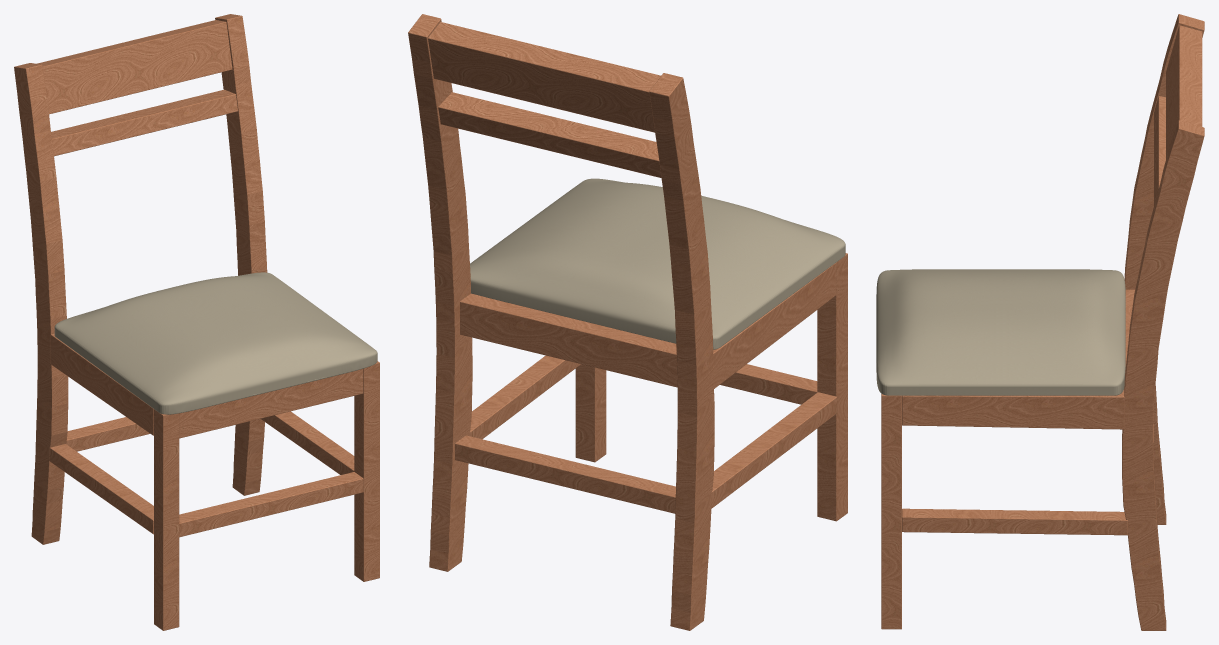
File: chair 3.obj
3 renders of one model, left to right at view 1: azimuth 30°, elevation 25°; view 2: azimuth 150°, elevation 25°; view 3: azimuth 270°, elevation 25°, orthographic. The views are drawn at different scales.
Visible parts, largest first — view 1: Mesh15 chair5_1 Group1 Model, Mesh14 chair2_1 Group1 Model, Mesh2 chair2_1 Group1 Model, Mesh13 chair2_1 Group1 Model, Mesh12 chair2_1 Group1 Model, Mesh11 chair2_1 Group1 Model, Mesh1 chair2_1 Group1 Model, Mesh5 chair2_1 Group1 Model, Mesh3 chair2_1 Group1 Model, Mesh10 chair2_1 Group1 Model, Mesh8 chair2_1 Group1 Model, Mesh7 chair2_1 Group1 Model (+1 smaller); view 2: Mesh15 chair5_1 Group1 Model, Mesh14 chair2_1 Group1 Model, Mesh13 chair2_1 Group1 Model, Mesh2 chair2_1 Group1 Model, Mesh6 chair2_1 Group1 Model, Mesh1 chair2_1 Group1 Model, Mesh12 chair2_1 Group1 Model, Mesh4 chair2_1 Group1 Model, Mesh10 chair2_1 Group1 Model, Mesh8 chair2_1 Group1 Model, Mesh7 chair2_1 Group1 Model, Mesh11 chair2_1 Group1 Model (+1 smaller); view 3: Mesh15 chair5_1 Group1 Model, Mesh13 chair2_1 Group1 Model, Mesh9 chair2_1 Group1 Model, Mesh7 chair2_1 Group1 Model, Mesh11 chair2_1 Group1 Model, Mesh14 chair2_1 Group1 Model, Mesh2 chair2_1 Group1 Model, Mesh1 chair2_1 Group1 Model.
Boxes of the visible parts, bbox=[...] form: Mesh15 chair5_1 Group1 Model: bbox=[54, 272, 377, 414]; Mesh14 chair2_1 Group1 Model: bbox=[14, 63, 68, 544]; Mesh2 chair2_1 Group1 Model: bbox=[36, 20, 232, 114]; Mesh13 chair2_1 Group1 Model: bbox=[215, 14, 267, 495]; Mesh12 chair2_1 Group1 Model: bbox=[154, 409, 179, 630]; Mesh11 chair2_1 Group1 Model: bbox=[354, 361, 379, 581]; Mesh1 chair2_1 Group1 Model: bbox=[51, 89, 237, 156]; Mesh5 chair2_1 Group1 Model: bbox=[179, 369, 363, 438]; Mesh3 chair2_1 Group1 Model: bbox=[179, 472, 363, 537]; Mesh10 chair2_1 Group1 Model: bbox=[50, 333, 153, 435]; Mesh8 chair2_1 Group1 Model: bbox=[49, 444, 153, 534]; Mesh7 chair2_1 Group1 Model: bbox=[260, 411, 354, 474]; Mesh15 chair5_1 Group1 Model: bbox=[470, 178, 845, 349]; Mesh14 chair2_1 Group1 Model: bbox=[649, 73, 714, 630]; Mesh13 chair2_1 Group1 Model: bbox=[408, 14, 472, 571]; Mesh2 chair2_1 Group1 Model: bbox=[428, 22, 660, 132]; Mesh6 chair2_1 Group1 Model: bbox=[460, 293, 677, 387]; Mesh1 chair2_1 Group1 Model: bbox=[438, 92, 661, 177]; Mesh12 chair2_1 Group1 Model: bbox=[817, 253, 847, 521]; Mesh4 chair2_1 Group1 Model: bbox=[455, 435, 675, 513]; Mesh10 chair2_1 Group1 Model: bbox=[713, 262, 836, 388]; Mesh8 chair2_1 Group1 Model: bbox=[711, 392, 837, 508]; Mesh7 chair2_1 Group1 Model: bbox=[470, 355, 580, 439]; Mesh11 chair2_1 Group1 Model: bbox=[575, 364, 606, 462]; Mesh15 chair5_1 Group1 Model: bbox=[876, 269, 1125, 395]; Mesh13 chair2_1 Group1 Model: bbox=[1122, 120, 1204, 630]; Mesh9 chair2_1 Group1 Model: bbox=[902, 389, 1124, 429]; Mesh7 chair2_1 Group1 Model: bbox=[902, 508, 1127, 535]; Mesh11 chair2_1 Group1 Model: bbox=[881, 394, 901, 629]; Mesh14 chair2_1 Group1 Model: bbox=[1124, 14, 1204, 524]; Mesh2 chair2_1 Group1 Model: bbox=[1166, 25, 1202, 158]; Mesh1 chair2_1 Group1 Model: bbox=[1154, 96, 1165, 205].
Bounding box in the file's own units: 98.11 × 200 × 118.
2 materials, 2 textured.
